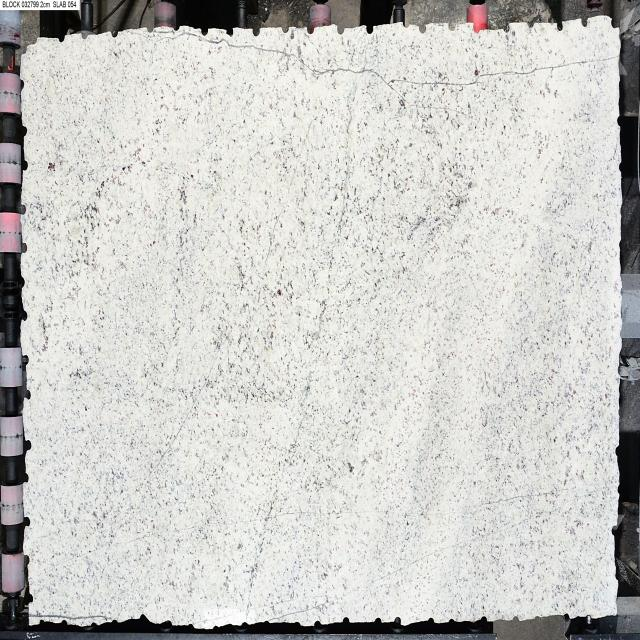chapa: (21, 13, 619, 627)
veio: (222, 22, 237, 40), (248, 20, 263, 38), (333, 22, 347, 38), (363, 19, 376, 36), (20, 350, 31, 369), (198, 22, 211, 38), (19, 304, 29, 324), (20, 122, 31, 140), (21, 435, 32, 452), (578, 14, 588, 32), (20, 156, 30, 173), (304, 22, 316, 36), (416, 20, 428, 34), (23, 384, 33, 400), (18, 198, 26, 216), (22, 552, 32, 566), (21, 512, 30, 527), (20, 241, 28, 257), (21, 470, 30, 484), (555, 15, 563, 30)
